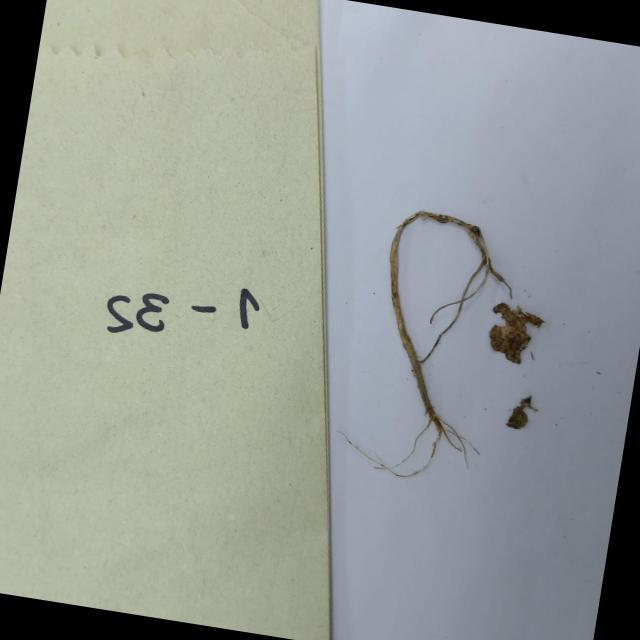Root: (324, 392, 479, 486)
Stem: (373, 286, 452, 398), (416, 275, 484, 371), (376, 200, 427, 293), (458, 232, 526, 300), (414, 209, 488, 241)
rooten_leaf: (483, 298, 548, 369), (506, 390, 540, 436)
